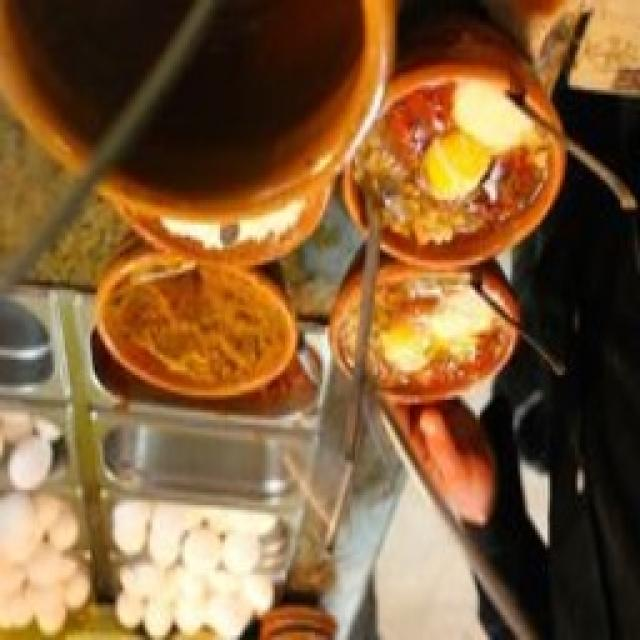Lablabi: (342, 16, 565, 399)
